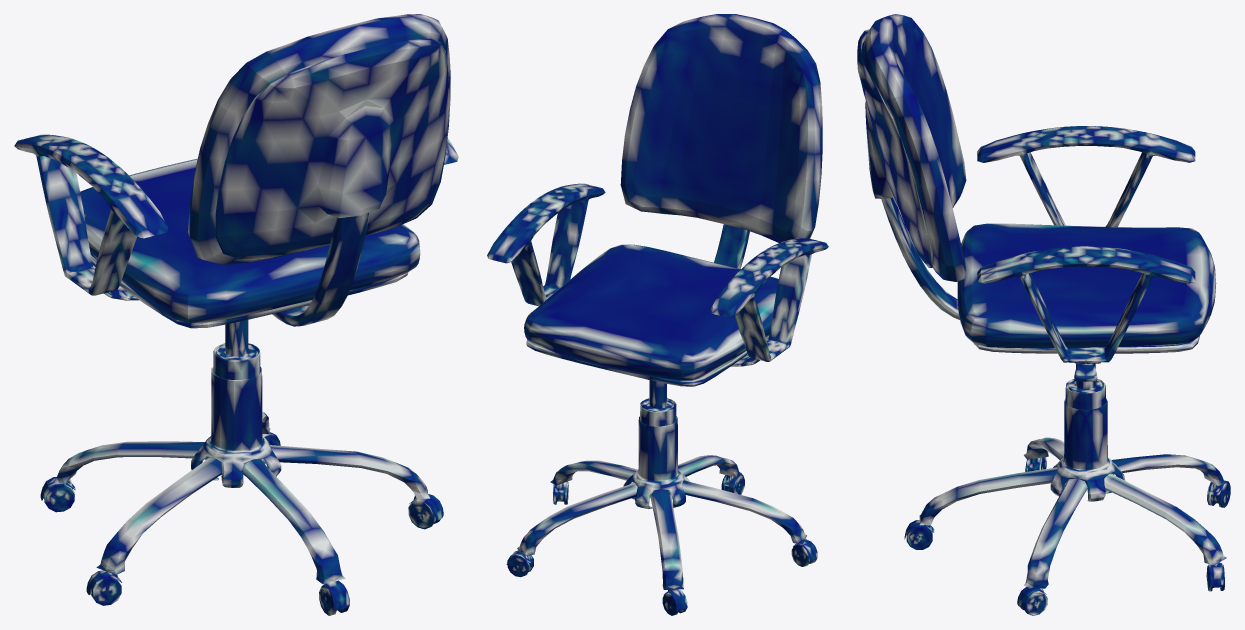
File: chair5_final400.obj
The picture shows the model from 3 angles, left to right: view 1: azimuth 30°, elevation 25°; view 2: azimuth 150°, elevation 25°; view 3: azimuth 270°, elevation 25°; orthographic projection. The views are drawn at different scales.
Bounding box in the file's own units: 0.7978 × 1.33 × 0.8717.
